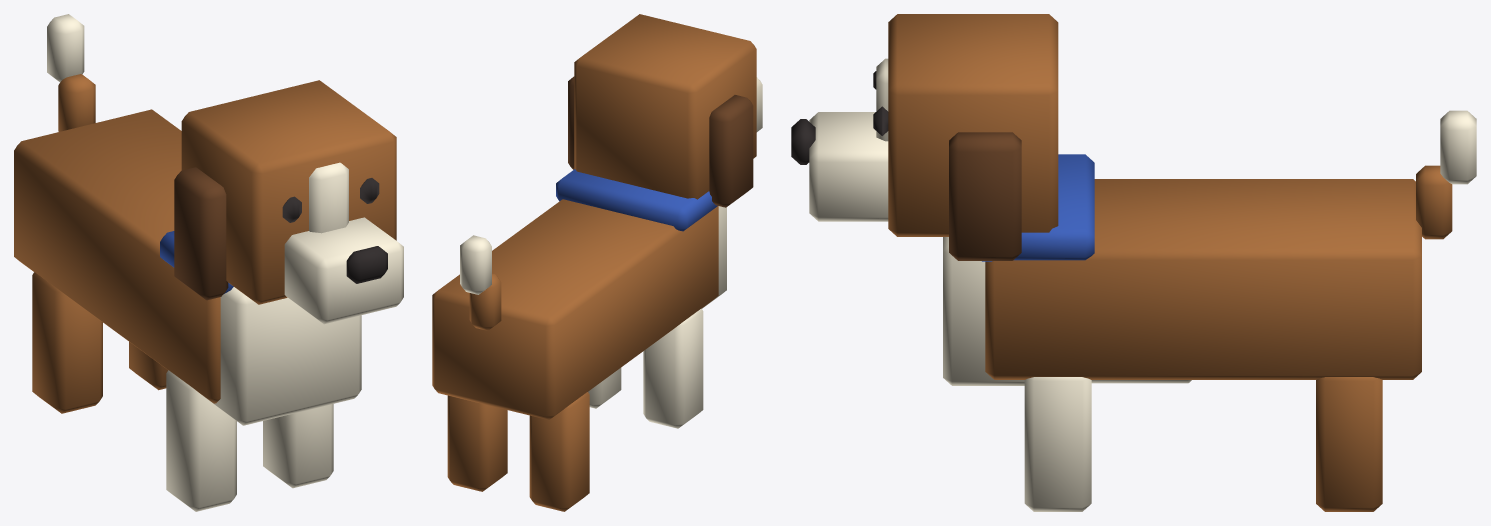
The model's file is H_MedHuntingHound.fbx.
3 views of the same model, side by side, from view 1: azimuth 30°, elevation 25°; view 2: azimuth 150°, elevation 25°; view 3: azimuth 270°, elevation 25° (orthographic). The views are drawn at different scales.
Parts seen in each view (by area): view 1: M_HuntingHound; view 2: M_HuntingHound; view 3: M_HuntingHound.
Part boxes in pixels (x1=…): M_HuntingHound: x1=14, y1=14, x2=403, y2=511; M_HuntingHound: x1=432, y1=14, x2=762, y2=511; M_HuntingHound: x1=791, y1=14, x2=1476, y2=511.
Size of the model in its own units: 0.4 by 0.78 by 1.13.
1 material, 1 textured.
